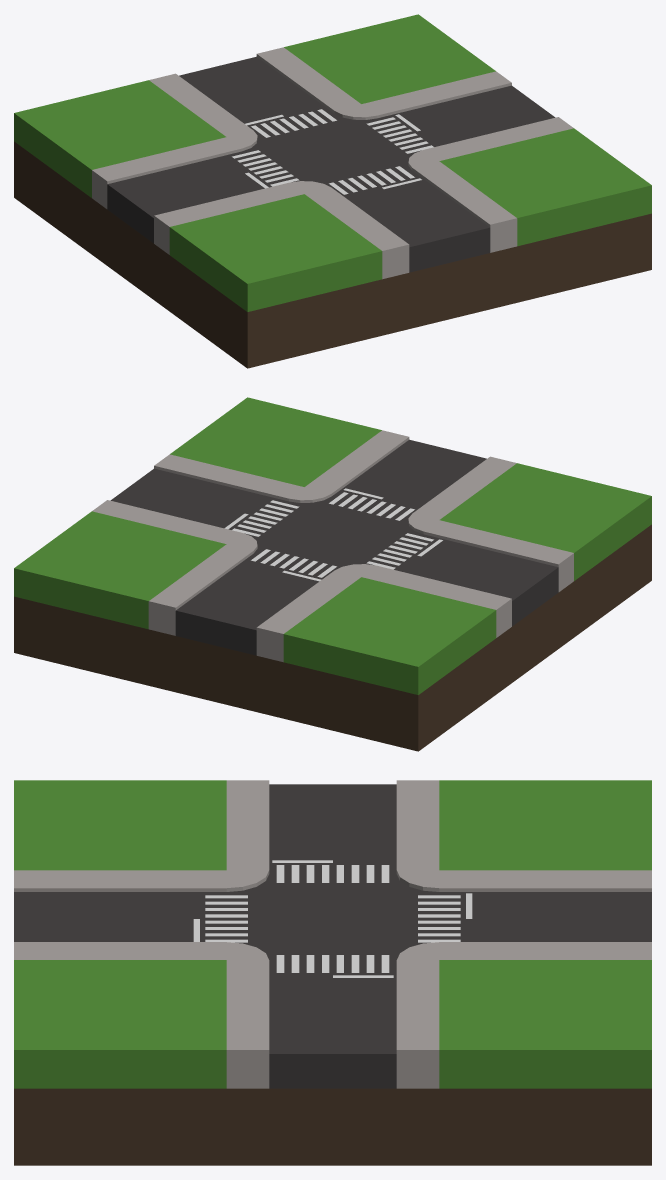
The model's file is tile-road-intersection.glb.
3 views of the same model, one above another, from view 1: azimuth 30°, elevation 25°; view 2: azimuth 150°, elevation 25°; view 3: azimuth 270°, elevation 25° (orthographic). The views are drawn at different scales.
Parts seen in each view (by area): view 1: tile-road-intersection; view 2: tile-road-intersection; view 3: tile-road-intersection.
Part boxes in pixels (x1,y1,x2,y2): tile-road-intersection: (14,14,651,368); tile-road-intersection: (14,397,651,751); tile-road-intersection: (14,780,651,1165).
Size of the model in its own units: 30 by 6 by 30.
Materials: 1 (1 with a texture image).
